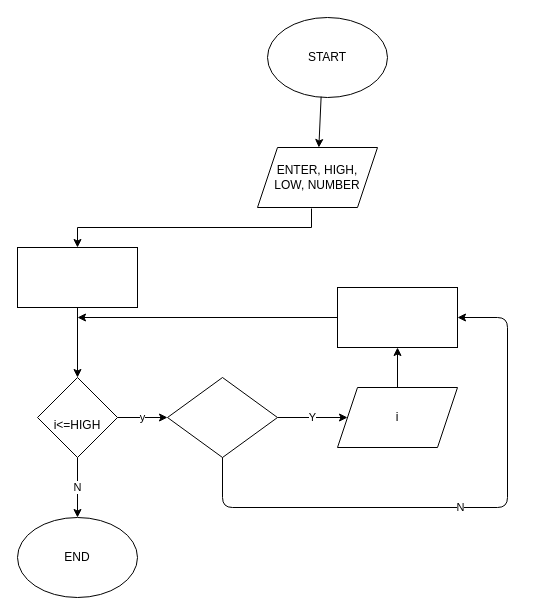
This 533x615 diagram has some shape labels left out. The box of each missing label's shape, as (x1, y1, x2, y2) in pixels:
i%NUMBER ==0: (166, 376, 278, 458)
i++: (336, 286, 458, 348)
i=LOW: (16, 246, 138, 308)
